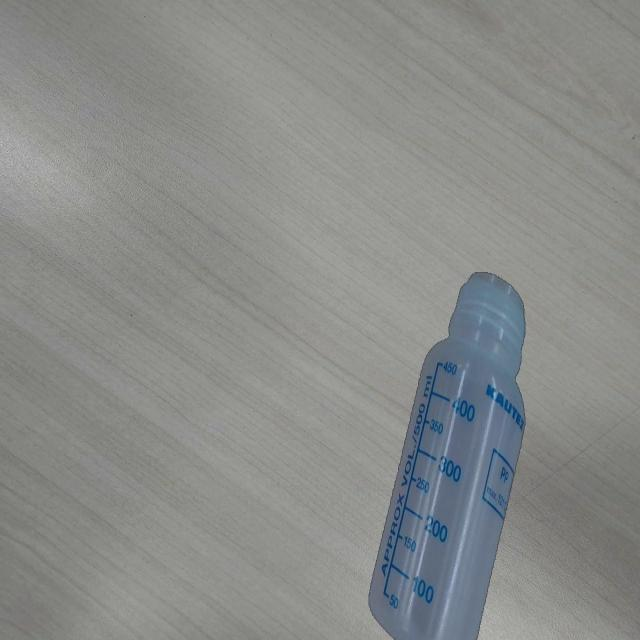bottle: (366, 267, 527, 640)
